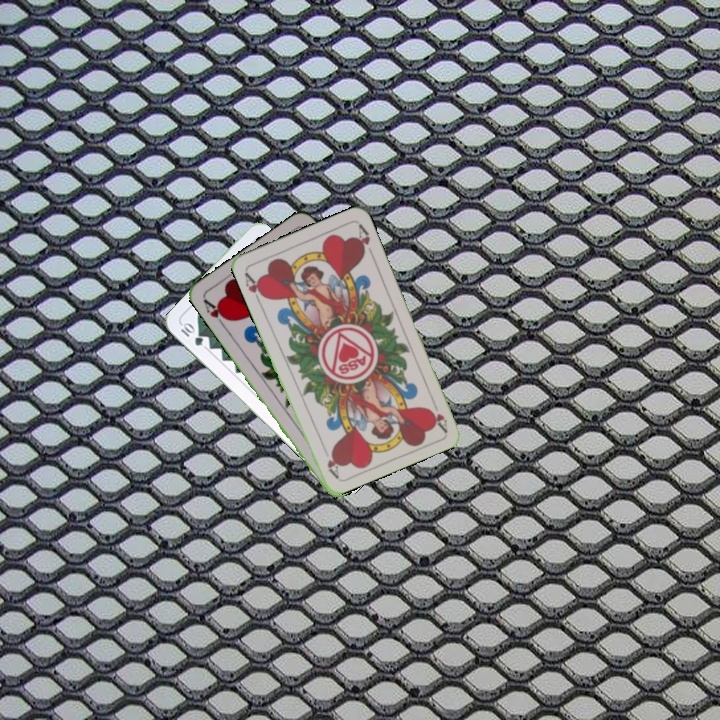G10: (177, 319, 206, 349)
HA: (199, 294, 232, 330), (240, 268, 268, 306), (424, 394, 450, 434)
